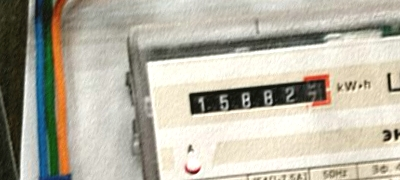1: (197, 95, 208, 113)
2: (285, 85, 297, 103)
5: (218, 93, 231, 111)
7: (307, 89, 319, 103)
8: (241, 90, 253, 108), (264, 89, 275, 105)
screen: (182, 71, 339, 120)
